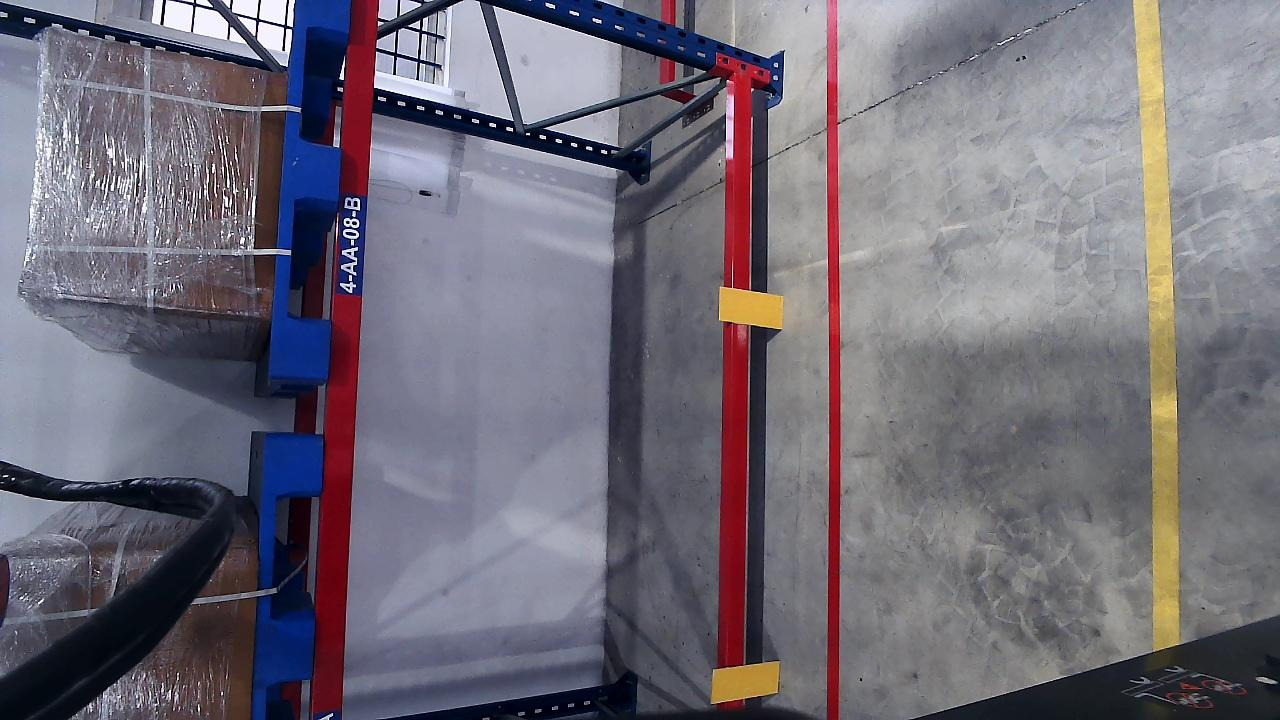h_rack: (312, 0, 377, 715), (725, 77, 758, 665)
orange_strip: (710, 660, 780, 702), (719, 285, 784, 328)
red_line: (823, 0, 842, 720)
small_pallet: (272, 0, 355, 376), (252, 430, 325, 720)
yellow_line: (1135, 0, 1181, 645)
